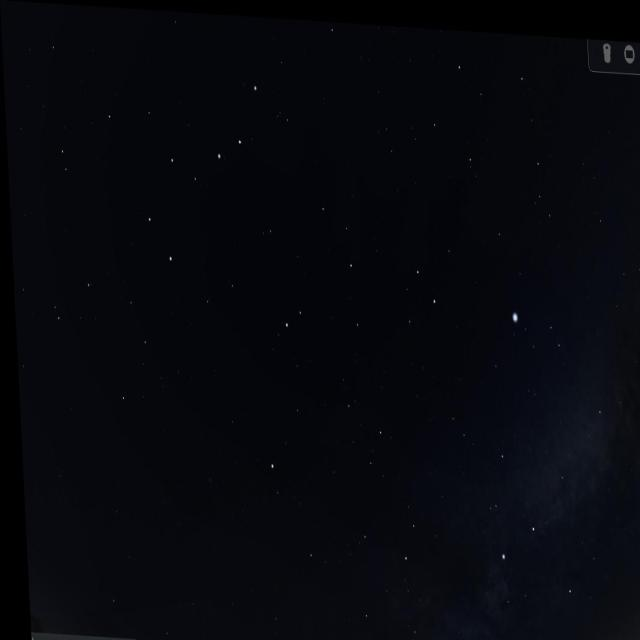cygnus: (481, 388, 610, 614)
lyra: (506, 290, 570, 364)
ursa_major: (125, 50, 267, 278)
